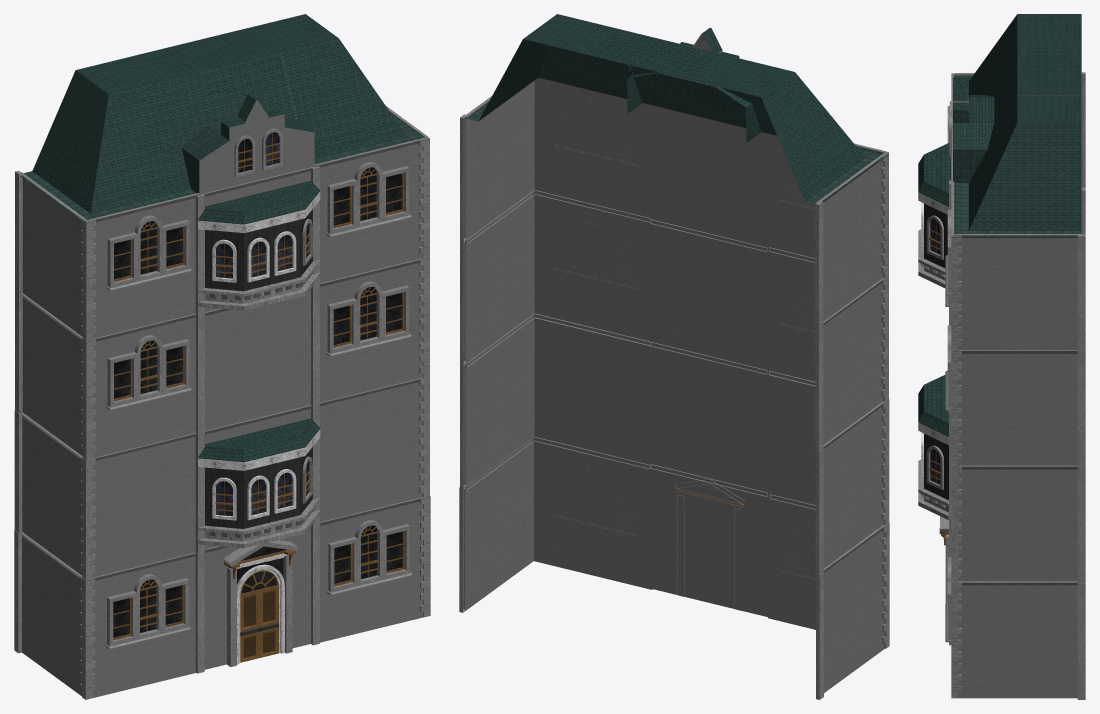
File: Mansion.001_House.004a.fbx
The picture shows the model from 3 angles, left to right: view 1: azimuth 30°, elevation 25°; view 2: azimuth 150°, elevation 25°; view 3: azimuth 270°, elevation 25°; orthographic projection. The views are drawn at different scales.
Visible parts, largest first — view 1: Mansion001_House_004; view 2: Mansion001_House_004; view 3: Mansion001_House_004.
Part boxes in pixels (x1,y1,x2,y2): Mansion001_House_004: (14, 14, 430, 699); Mansion001_House_004: (459, 14, 889, 699); Mansion001_House_004: (918, 14, 1085, 699).
Bounding box in the file's own units: 1212 × 1884 × 520.
